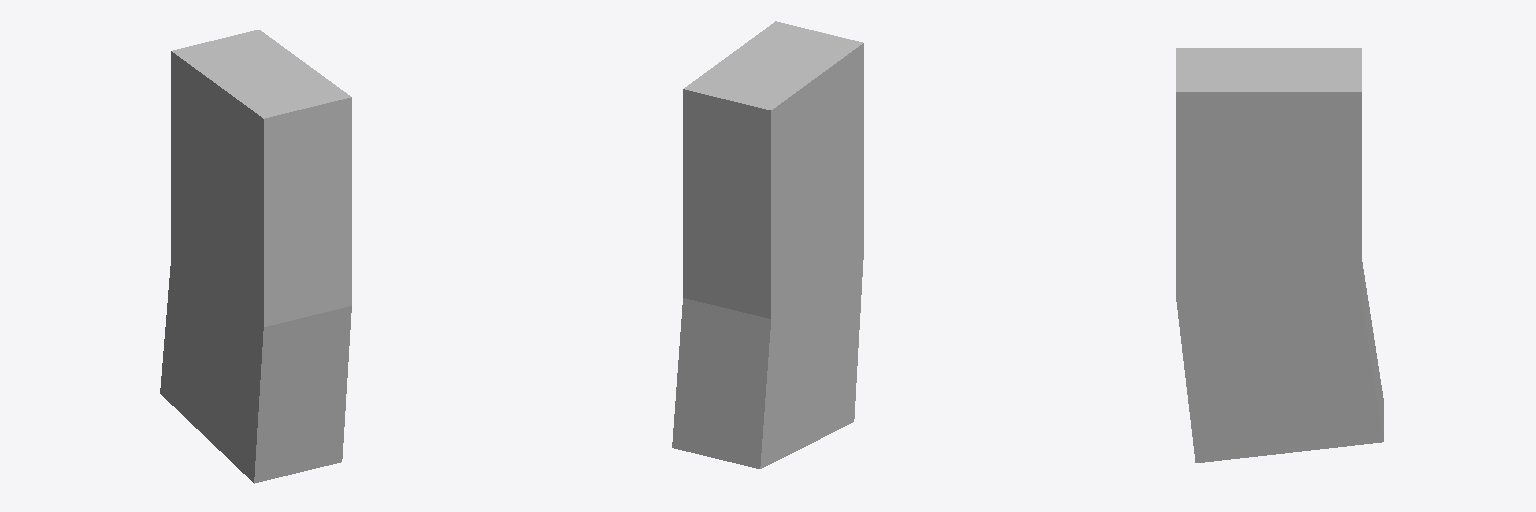
File: akmag.obj
3 renders of one model, left to right at view 1: azimuth 30°, elevation 25°; view 2: azimuth 150°, elevation 25°; view 3: azimuth 270°, elevation 25°, orthographic.
Parts seen in each view (by area): view 1: Model_0.001_Mesh.001; view 2: Model_0.001_Mesh.001; view 3: Model_0.001_Mesh.001.
Part boxes in pixels (left/top/right/bottom): Model_0.001_Mesh.001: left=160, top=30, right=351, bottom=483; Model_0.001_Mesh.001: left=672, top=21, right=863, bottom=468; Model_0.001_Mesh.001: left=1176, top=48, right=1383, bottom=462.
Size of the model in its own units: 1.31 by 5.26 by 2.66.